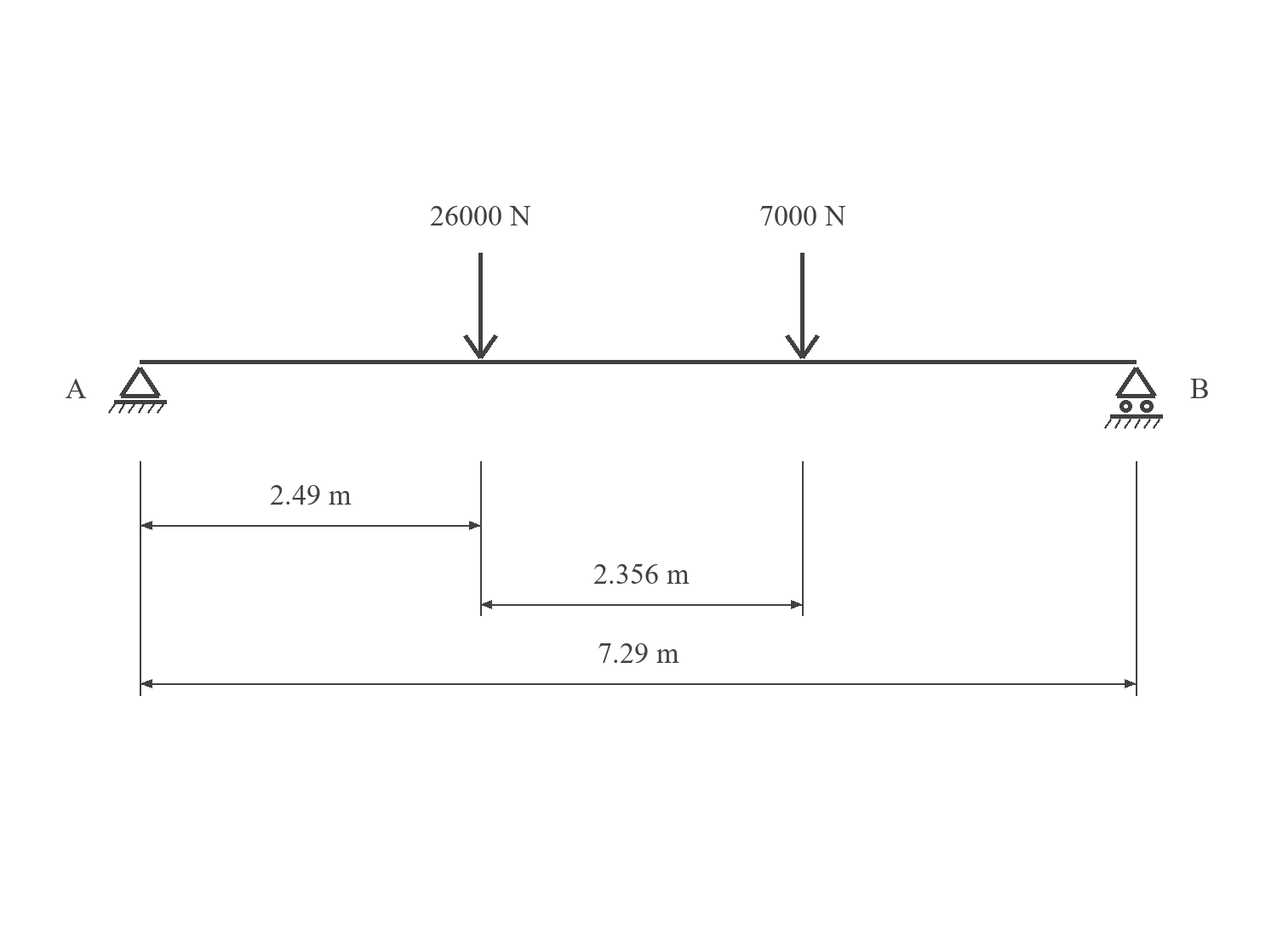pin_support: (108, 367, 167, 414)
point_load: (463, 253, 498, 359), (785, 253, 820, 359)
roller_support: (1104, 367, 1163, 429)
